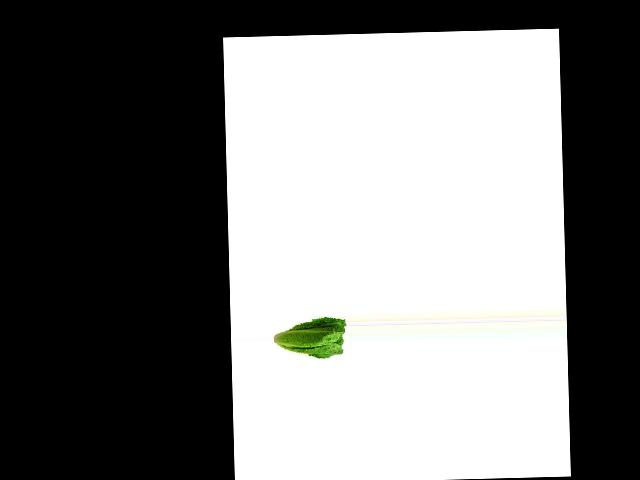lettuce: (273, 314, 347, 365)
